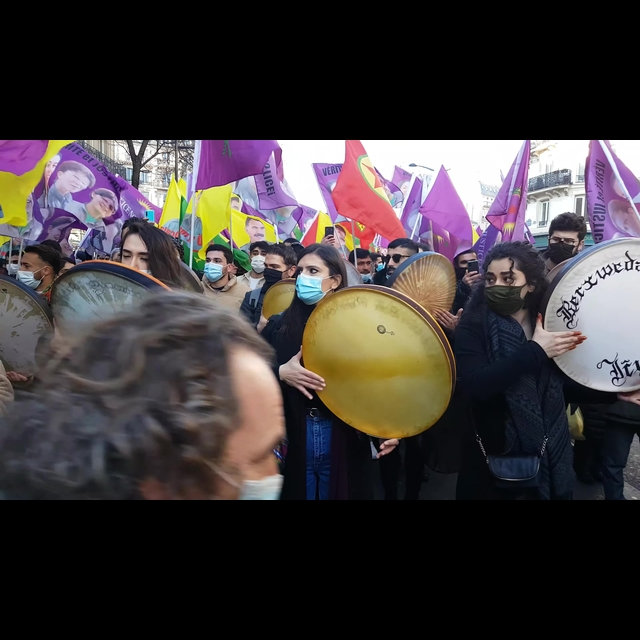APO: (243, 217, 266, 241)
